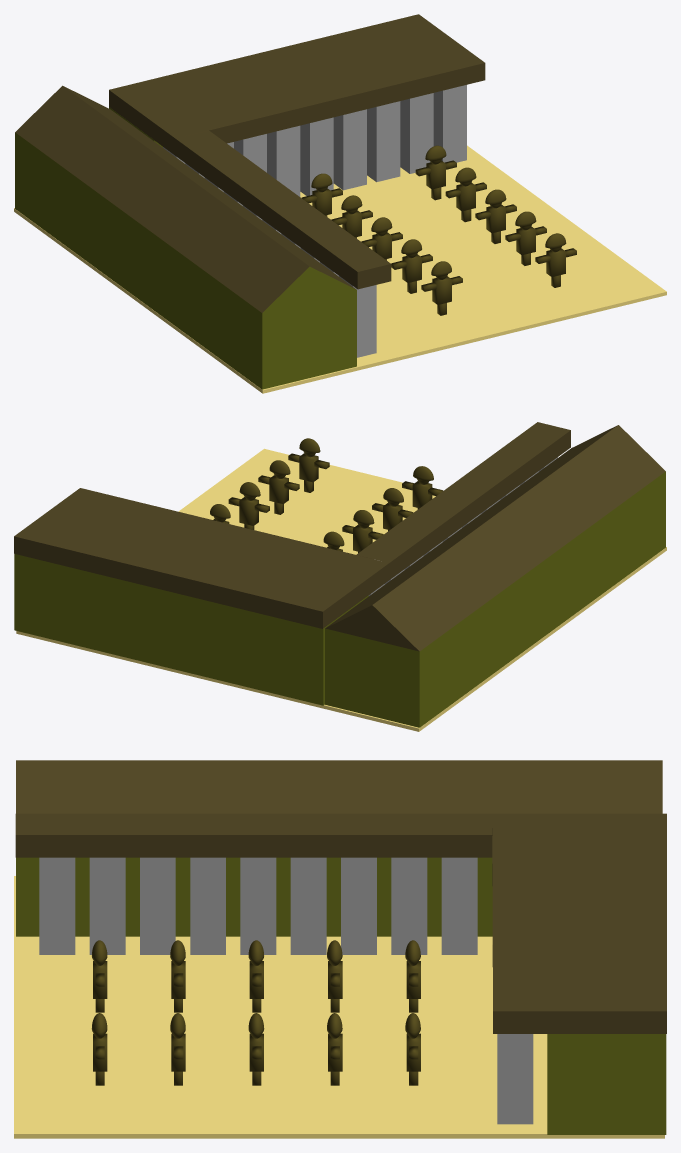
The model's file is 訓練所.fbx.
The picture shows the model from 3 angles, top to bottom: view 1: azimuth 30°, elevation 25°; view 2: azimuth 150°, elevation 25°; view 3: azimuth 270°, elevation 25°; orthographic projection. The views are drawn at different scales.
Visible parts, largest first — view 1: 立方体.003, 立方体, 立方体.002, 立方体.001; view 2: 立方体.003, 立方体.002; view 3: 立方体.003, 立方体.001, 立方体.002, 立方体.
Part boxes in pixels (x1,y1,x2,y2): 立方体.003: [14, 14, 666, 393]; 立方体: [163, 85, 466, 196]; 立方体.002: [301, 145, 576, 315]; 立方体.001: [185, 163, 376, 357]; 立方体.003: [14, 422, 666, 731]; 立方体.002: [210, 438, 443, 552]; 立方体.003: [14, 760, 666, 1138]; 立方体.001: [39, 857, 477, 954]; 立方体.002: [91, 940, 420, 1085]; 立方体: [497, 1034, 533, 1124].
Bounding box in the file's own units: 2331 × 632 × 2485.
